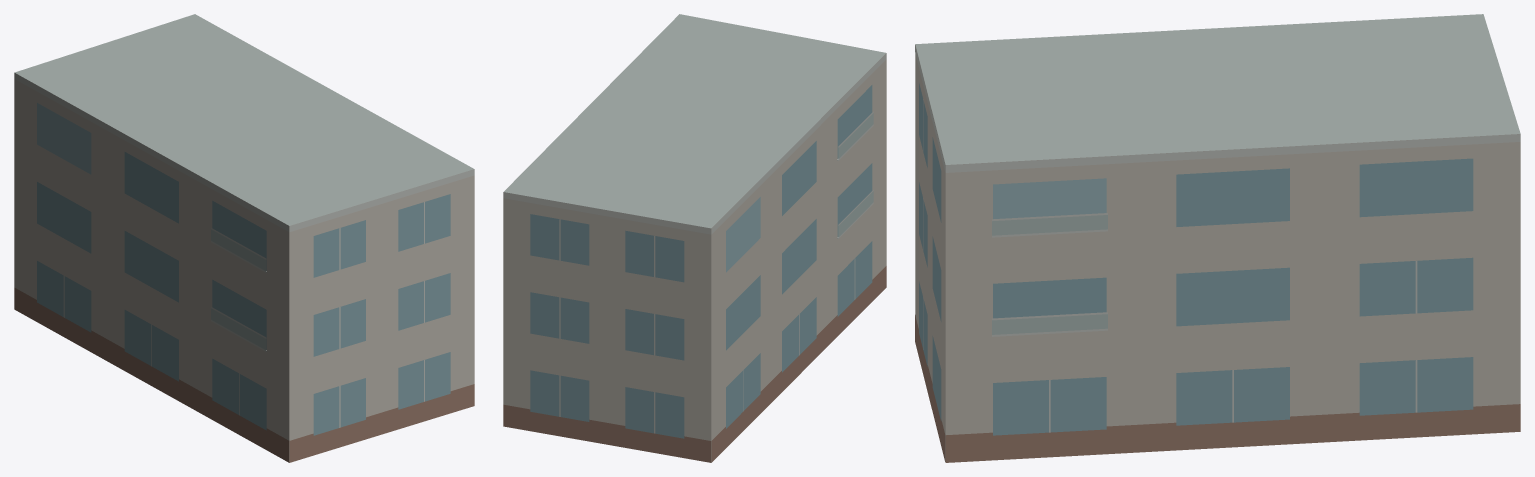
The model's file is survey-upis-32718675.glb.
3 renders of one model, left to right at view 1: azimuth 30°, elevation 25°; view 2: azimuth 150°, elevation 25°; view 3: azimuth 270°, elevation 25°, orthographic. The views are drawn at different scales.
Visible parts, largest first — view 1: survey-upis-32718675.tmp; view 2: survey-upis-32718675.tmp; view 3: survey-upis-32718675.tmp.
Boxes of the visible parts, x1,y1,x2,y2 form: survey-upis-32718675.tmp: [14, 14, 474, 462]; survey-upis-32718675.tmp: [503, 14, 886, 462]; survey-upis-32718675.tmp: [915, 14, 1520, 462].
Size of the model in its own units: 9.96 by 9.15 by 16.87.
